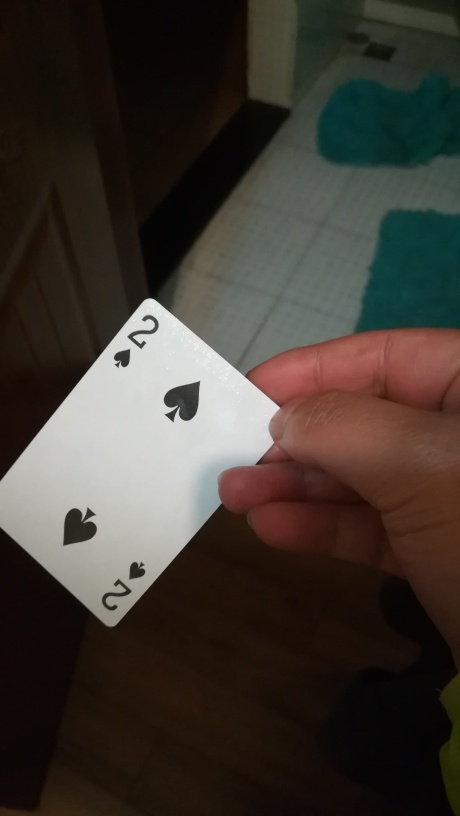ht 2: (2, 287, 285, 631)
